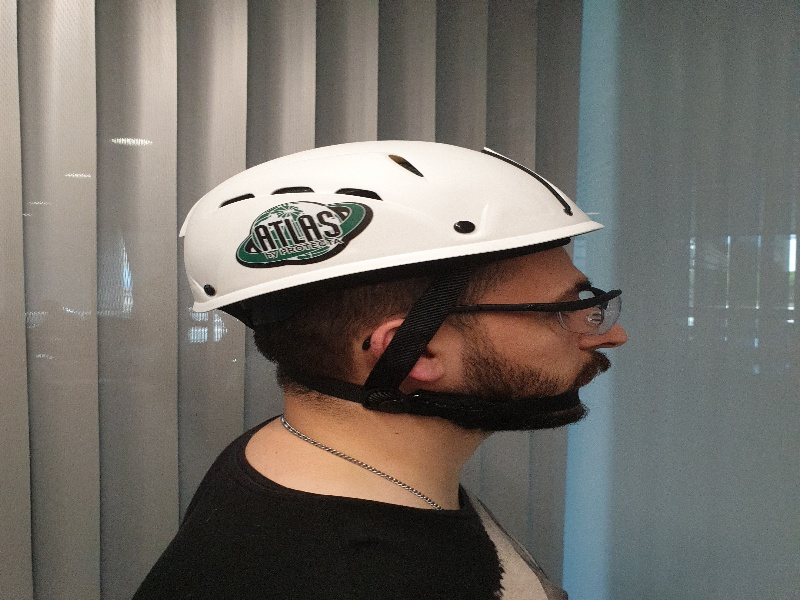Baret: (183, 141, 603, 293)
Gozluk: (446, 288, 623, 331)
